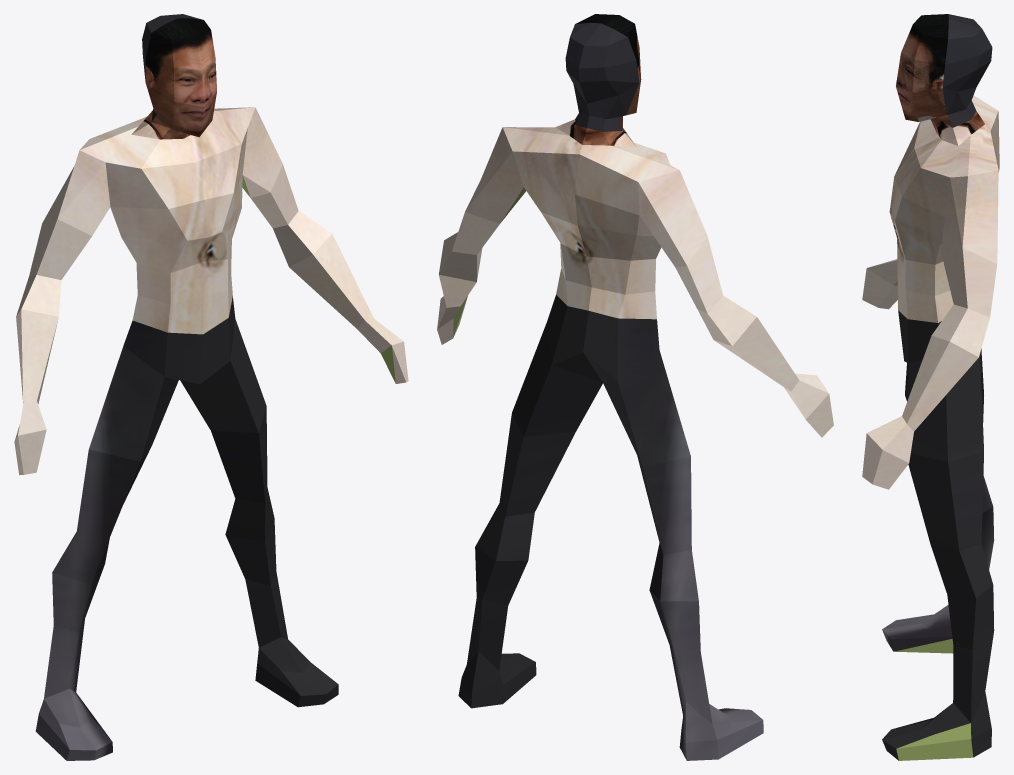
The model's file is 01-Rodrigo (6).fbx.
3 views of the same model, side by side, from view 1: azimuth 30°, elevation 25°; view 2: azimuth 150°, elevation 25°; view 3: azimuth 270°, elevation 25° (orthographic). The views are drawn at different scales.
Parts seen in each view (by area): view 1: BASE_Low_Poly_Man_Cube.001; view 2: BASE_Low_Poly_Man_Cube.001; view 3: BASE_Low_Poly_Man_Cube.001.
Boxes of the visible parts, <box> form: BASE_Low_Poly_Man_Cube.001: <box>14,14,408,760</box>; BASE_Low_Poly_Man_Cube.001: <box>437,14,833,760</box>; BASE_Low_Poly_Man_Cube.001: <box>862,14,999,760</box>.
Bounding box in the file's own units: 317 × 542 × 99.74.
